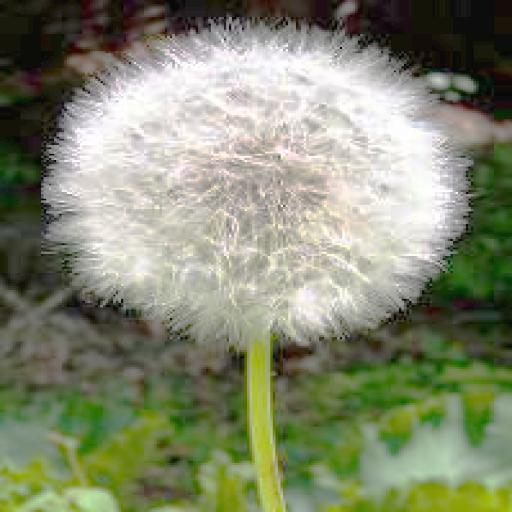dandelion: (52, 28, 468, 335)
